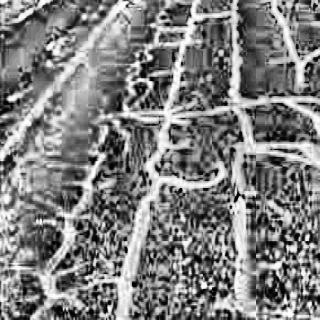crack: (19, 191, 91, 314), (51, 108, 164, 182), (113, 190, 153, 314), (264, 2, 318, 85), (234, 129, 319, 166), (233, 99, 320, 125), (122, 60, 190, 90), (226, 2, 245, 94), (168, 169, 222, 197), (167, 102, 231, 121), (137, 40, 200, 59), (152, 24, 197, 35)
